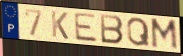7: (24, 8, 43, 38)
B: (98, 13, 125, 46)
E: (73, 12, 100, 44)
K: (50, 10, 70, 41)
M: (149, 17, 179, 52)
Q: (126, 16, 152, 47)
